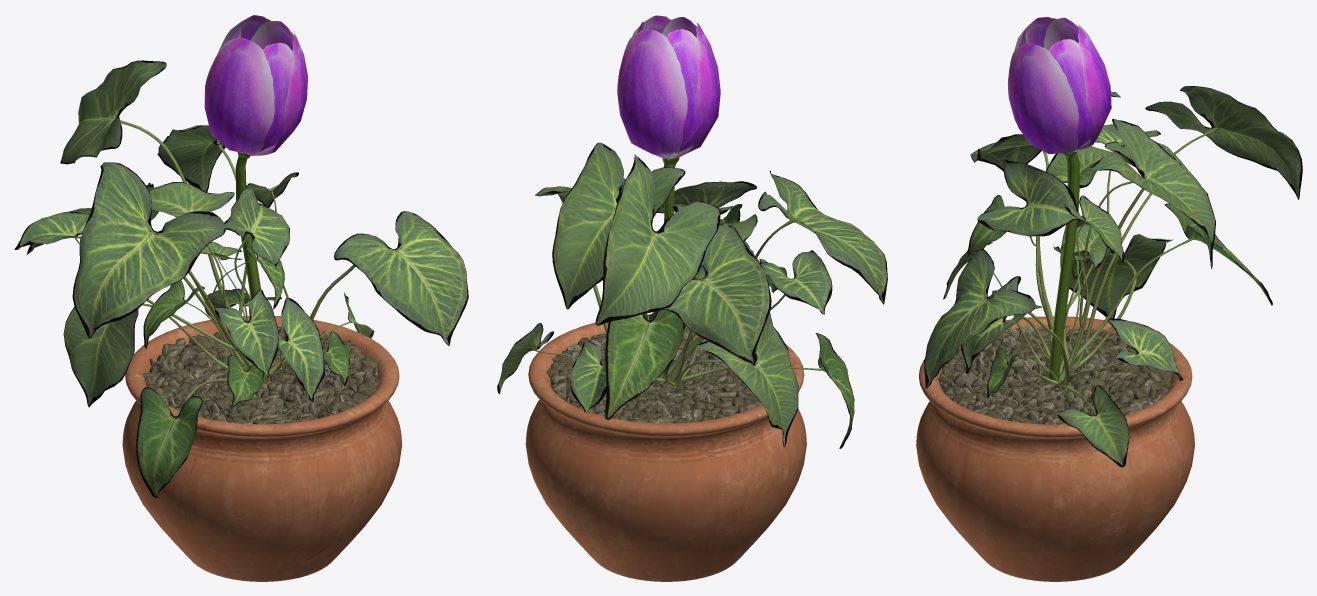
File: cicek.glb
The picture shows the model from 3 angles, left to right: view 1: azimuth 30°, elevation 25°; view 2: azimuth 150°, elevation 25°; view 3: azimuth 270°, elevation 25°; orthographic projection.
Visible parts, largest first — view 1: yaprak, saksi, toprak, Cylinder001_tulip_transparent_1_0.003, Cylinder001_tulip_transparent_1_0, Cylinder001_tulip_transparent_1_0.001, Cylinder001_tulip_transparent_1_0_1, Cylinder001_tulip_transparent_1_0.002; view 2: yaprak, saksi, Cylinder001_tulip_transparent_1_0.002, toprak, Cylinder001_tulip_transparent_1_0.003, Cylinder001_tulip_transparent_1_0; view 3: yaprak, saksi, toprak, Cylinder001_tulip_transparent_1_0.001, Cylinder001_tulip_transparent_1_0, Cylinder001_tulip_transparent_1_0_1, Cylinder001_tulip_transparent_1_0.002, Cylinder001_tulip_transparent_1_0.003.
Part boxes in pixels (x1,y1,x2,y2): yaprak: [14, 60, 468, 497]; saksi: [122, 316, 402, 581]; toprak: [142, 327, 380, 424]; Cylinder001_tulip_transparent_1_0.003: [204, 37, 287, 154]; Cylinder001_tulip_transparent_1_0: [229, 21, 294, 156]; Cylinder001_tulip_transparent_1_0.001: [268, 32, 307, 154]; Cylinder001_tulip_transparent_1_0_1: [235, 152, 267, 382]; Cylinder001_tulip_transparent_1_0.002: [217, 15, 270, 54]; yaprak: [497, 142, 887, 448]; saksi: [525, 314, 806, 581]; Cylinder001_tulip_transparent_1_0.002: [617, 29, 699, 158]; toprak: [546, 327, 761, 423]; Cylinder001_tulip_transparent_1_0.003: [674, 22, 720, 159]; Cylinder001_tulip_transparent_1_0: [637, 17, 697, 159]; yaprak: [924, 86, 1302, 467]; saksi: [916, 316, 1194, 581]; toprak: [937, 325, 1171, 424]; Cylinder001_tulip_transparent_1_0.001: [1008, 44, 1078, 154]; Cylinder001_tulip_transparent_1_0: [1018, 17, 1092, 152]; Cylinder001_tulip_transparent_1_0_1: [1048, 152, 1079, 382]; Cylinder001_tulip_transparent_1_0.002: [1071, 24, 1111, 152]; Cylinder001_tulip_transparent_1_0.003: [1014, 17, 1056, 50].
Bounding box in the file's own units: 3.62 × 5.09 × 3.39.
4 materials, 4 textured.
